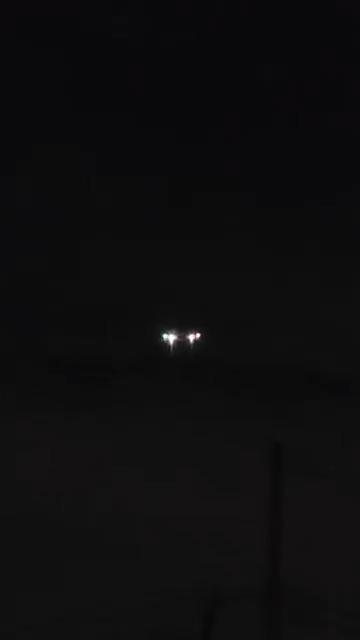Plane: (138, 294, 223, 383)
